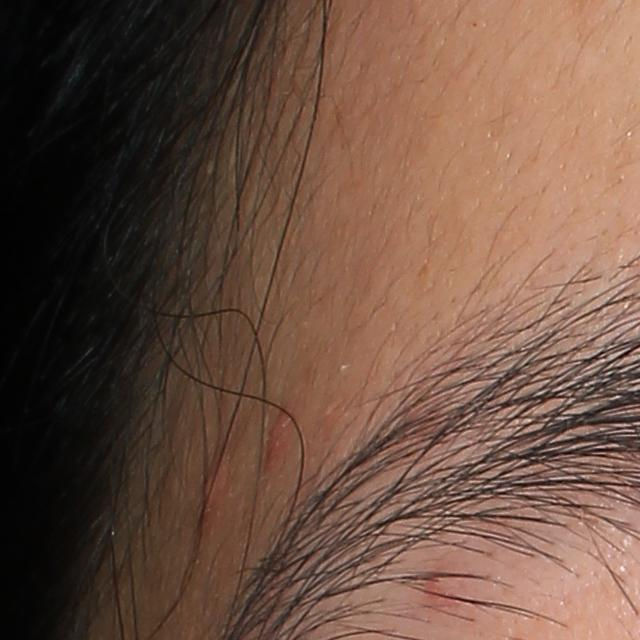papule: (194, 446, 229, 518), (262, 404, 296, 476)
